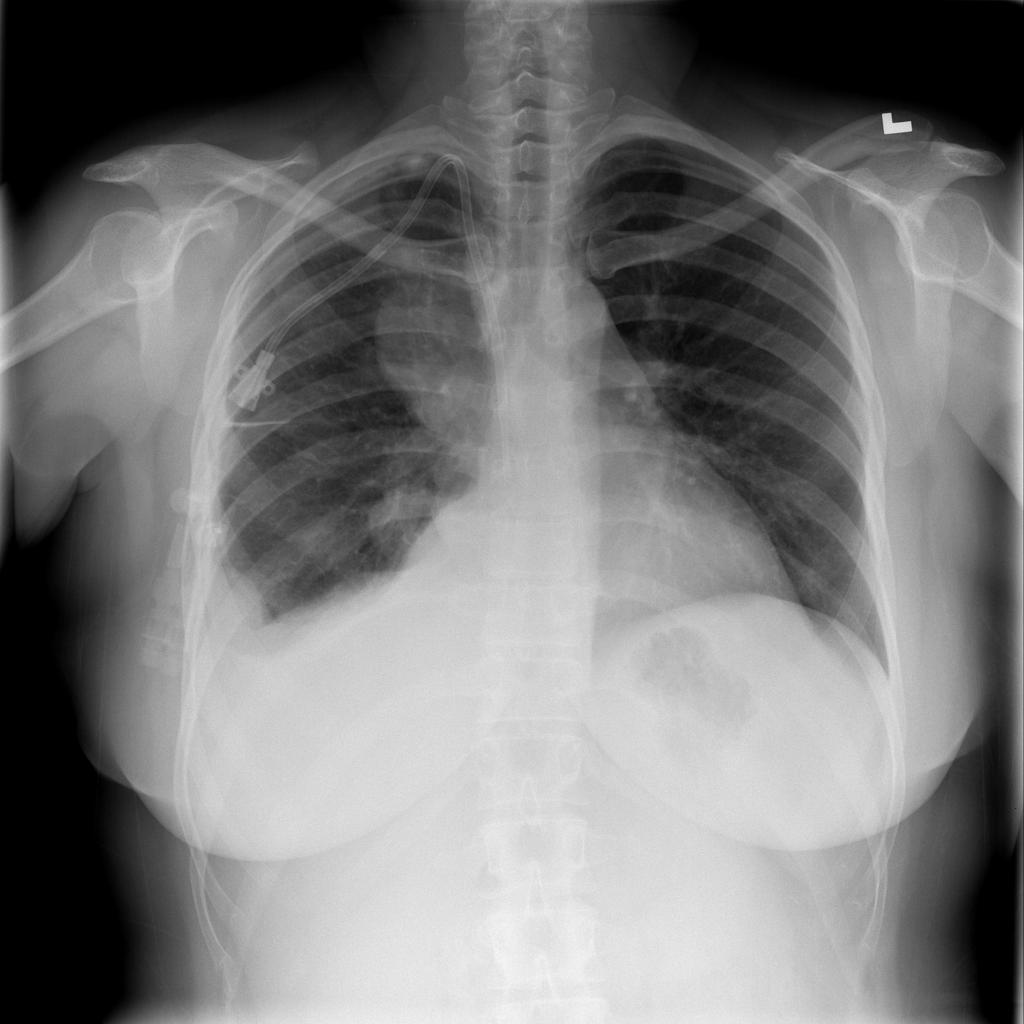nodule: (365, 262, 500, 429), (353, 467, 456, 572)
